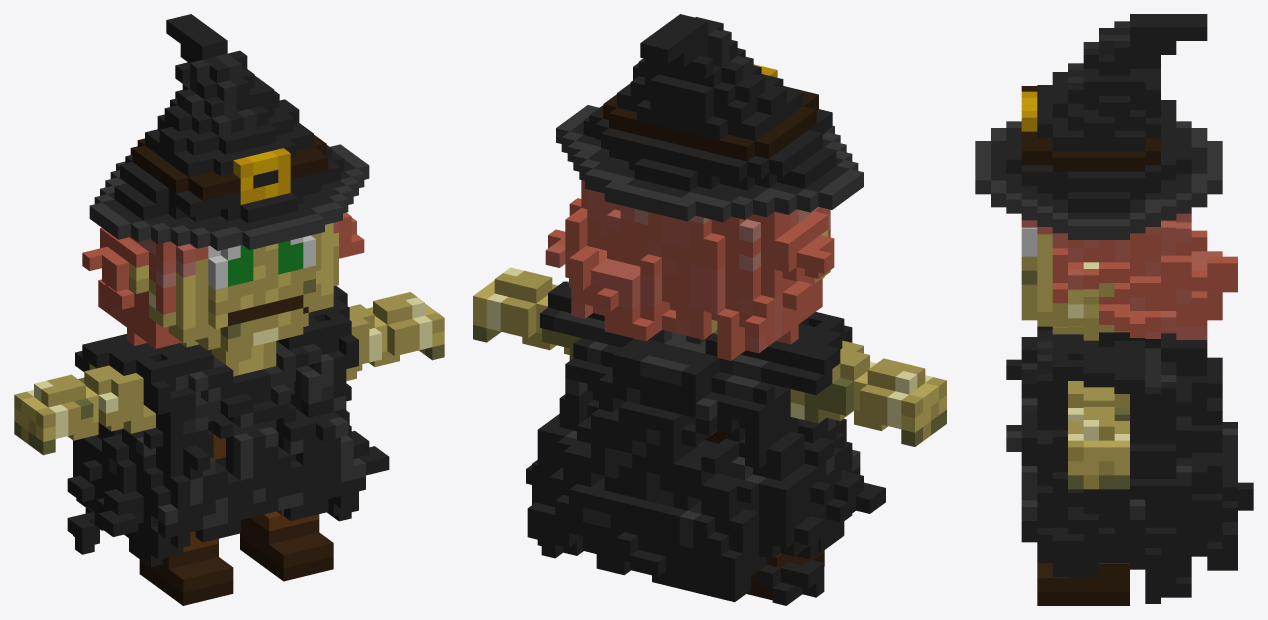
File: witch.obj
3 views of the same model, side by side, from view 1: azimuth 30°, elevation 25°; view 2: azimuth 150°, elevation 25°; view 3: azimuth 270°, elevation 25° (orthographic). The views are drawn at different scales.
Bounding box in the file's own units: 3.2 × 3.9 × 1.8.
Materials: 1 (1 with a texture image).
